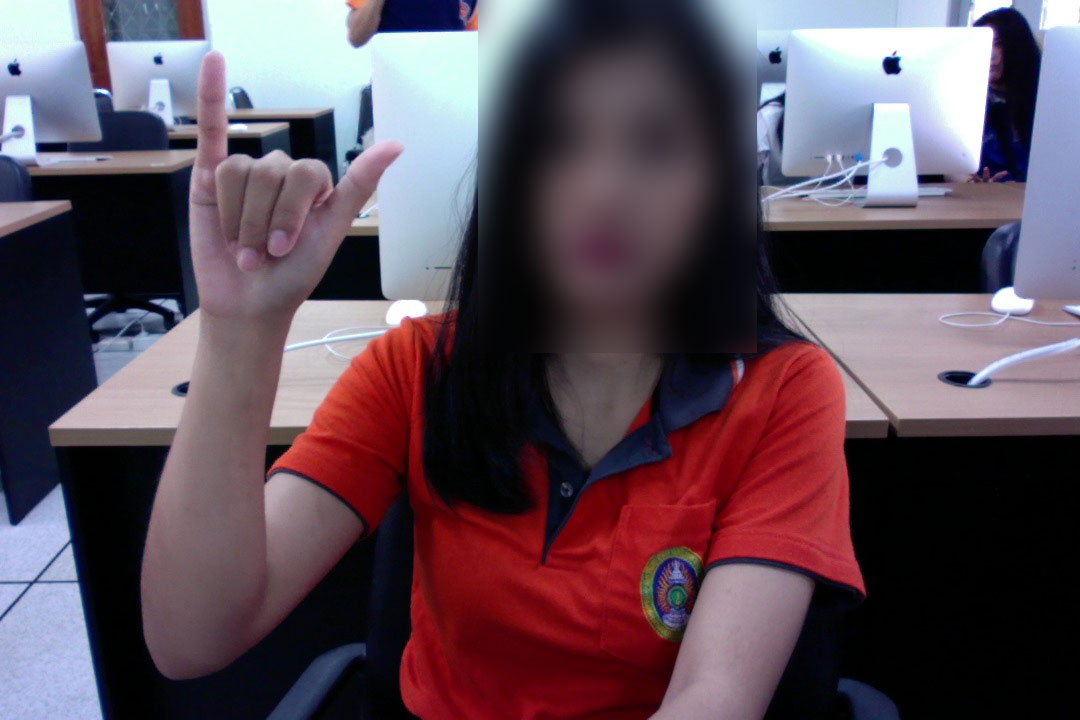yor: (184, 46, 411, 336)
